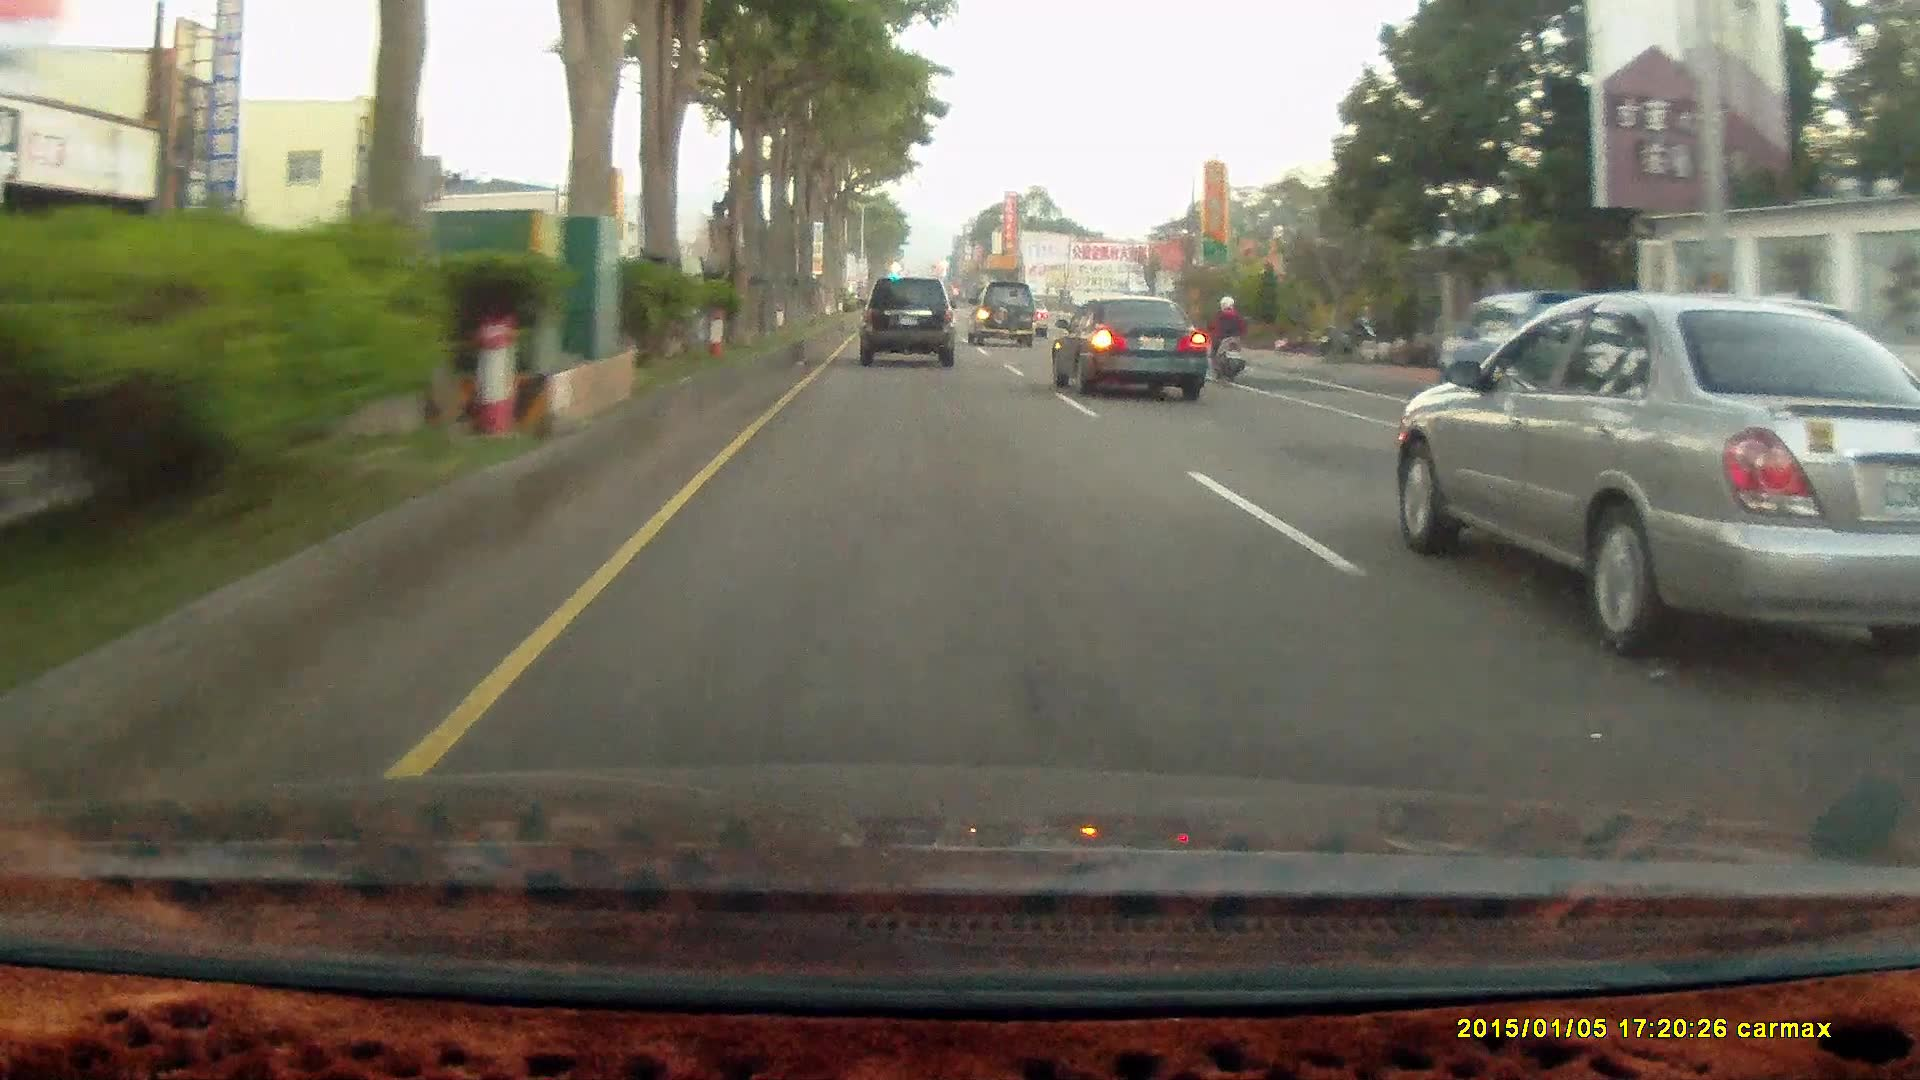rider: (1196, 287, 1258, 389), (1202, 290, 1246, 384)
vehicle: (1401, 299, 1920, 668), (1436, 286, 1635, 404), (1434, 287, 1633, 393), (1050, 294, 1208, 401), (1055, 297, 1213, 400), (861, 279, 962, 371), (854, 273, 953, 364), (966, 280, 1037, 349), (967, 279, 1038, 344)
